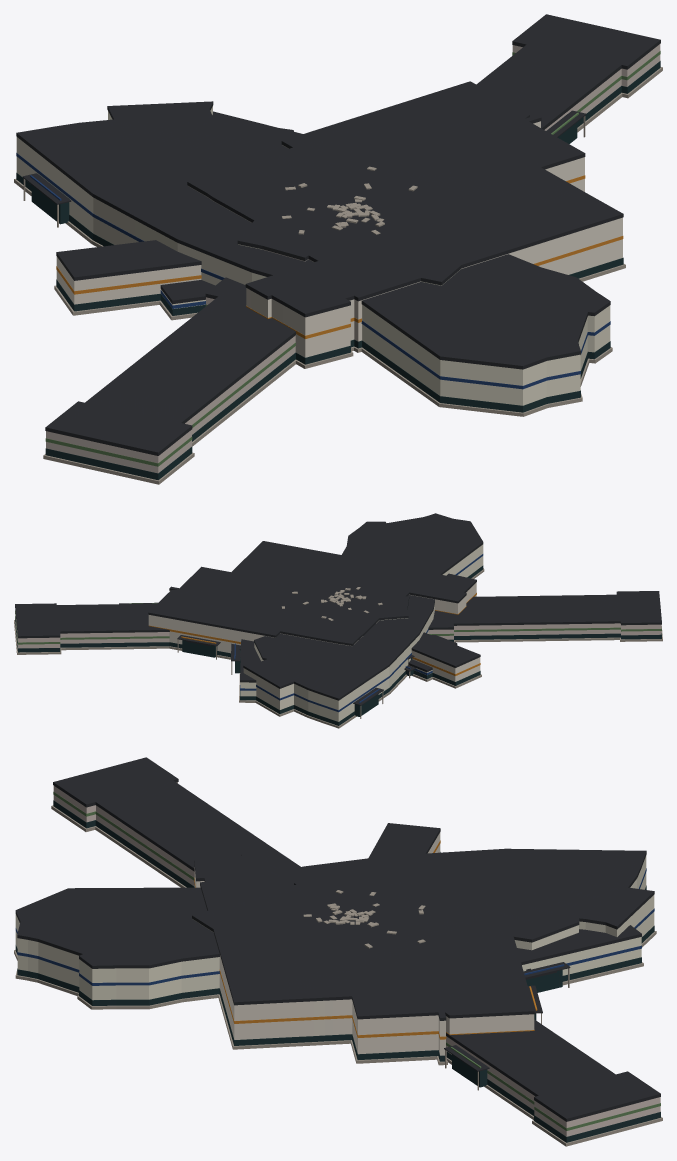
File: malls.glb
3 views of the same model, one above another, from view 1: azimuth 30°, elevation 25°; view 2: azimuth 150°, elevation 25°; view 3: azimuth 270°, elevation 25° (orthographic). The views are drawn at different scales.
Visible parts, largest first — view 1: mall_31; view 2: mall_31; view 3: mall_31.
Boxes of the visible parts, <box> form: mall_31: <box>14,14,662,484</box>; mall_31: <box>14,513,662,728</box>; mall_31: <box>14,757,662,1146</box>.
Size of the model in its own units: 460 by 28.39 by 347.
4 materials, 4 textured.
